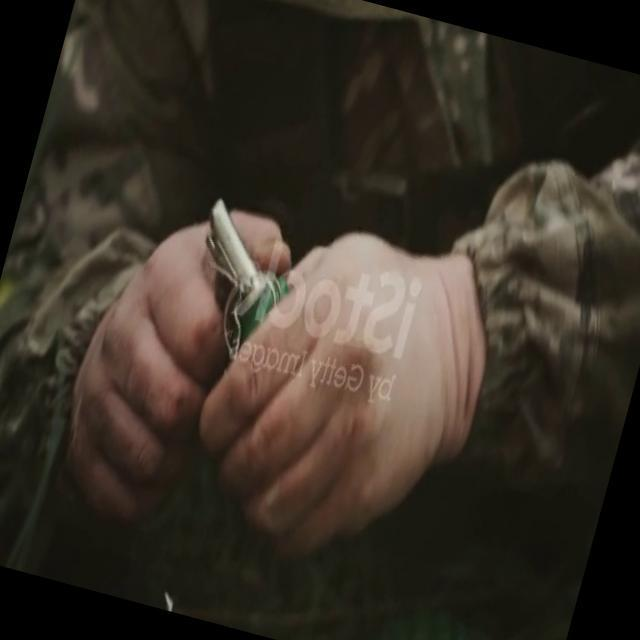grenade: (171, 192, 295, 348)
